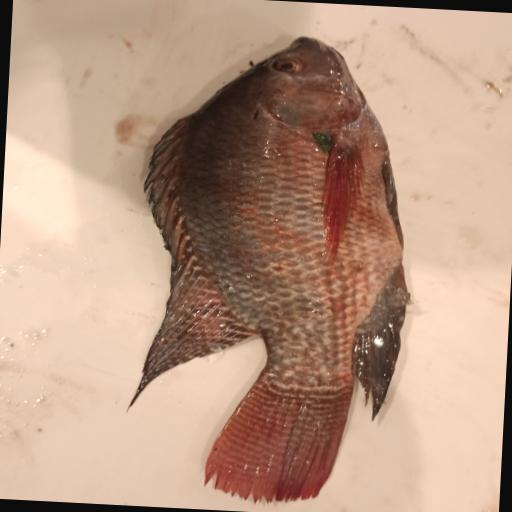Tilapia: (123, 29, 425, 511)
